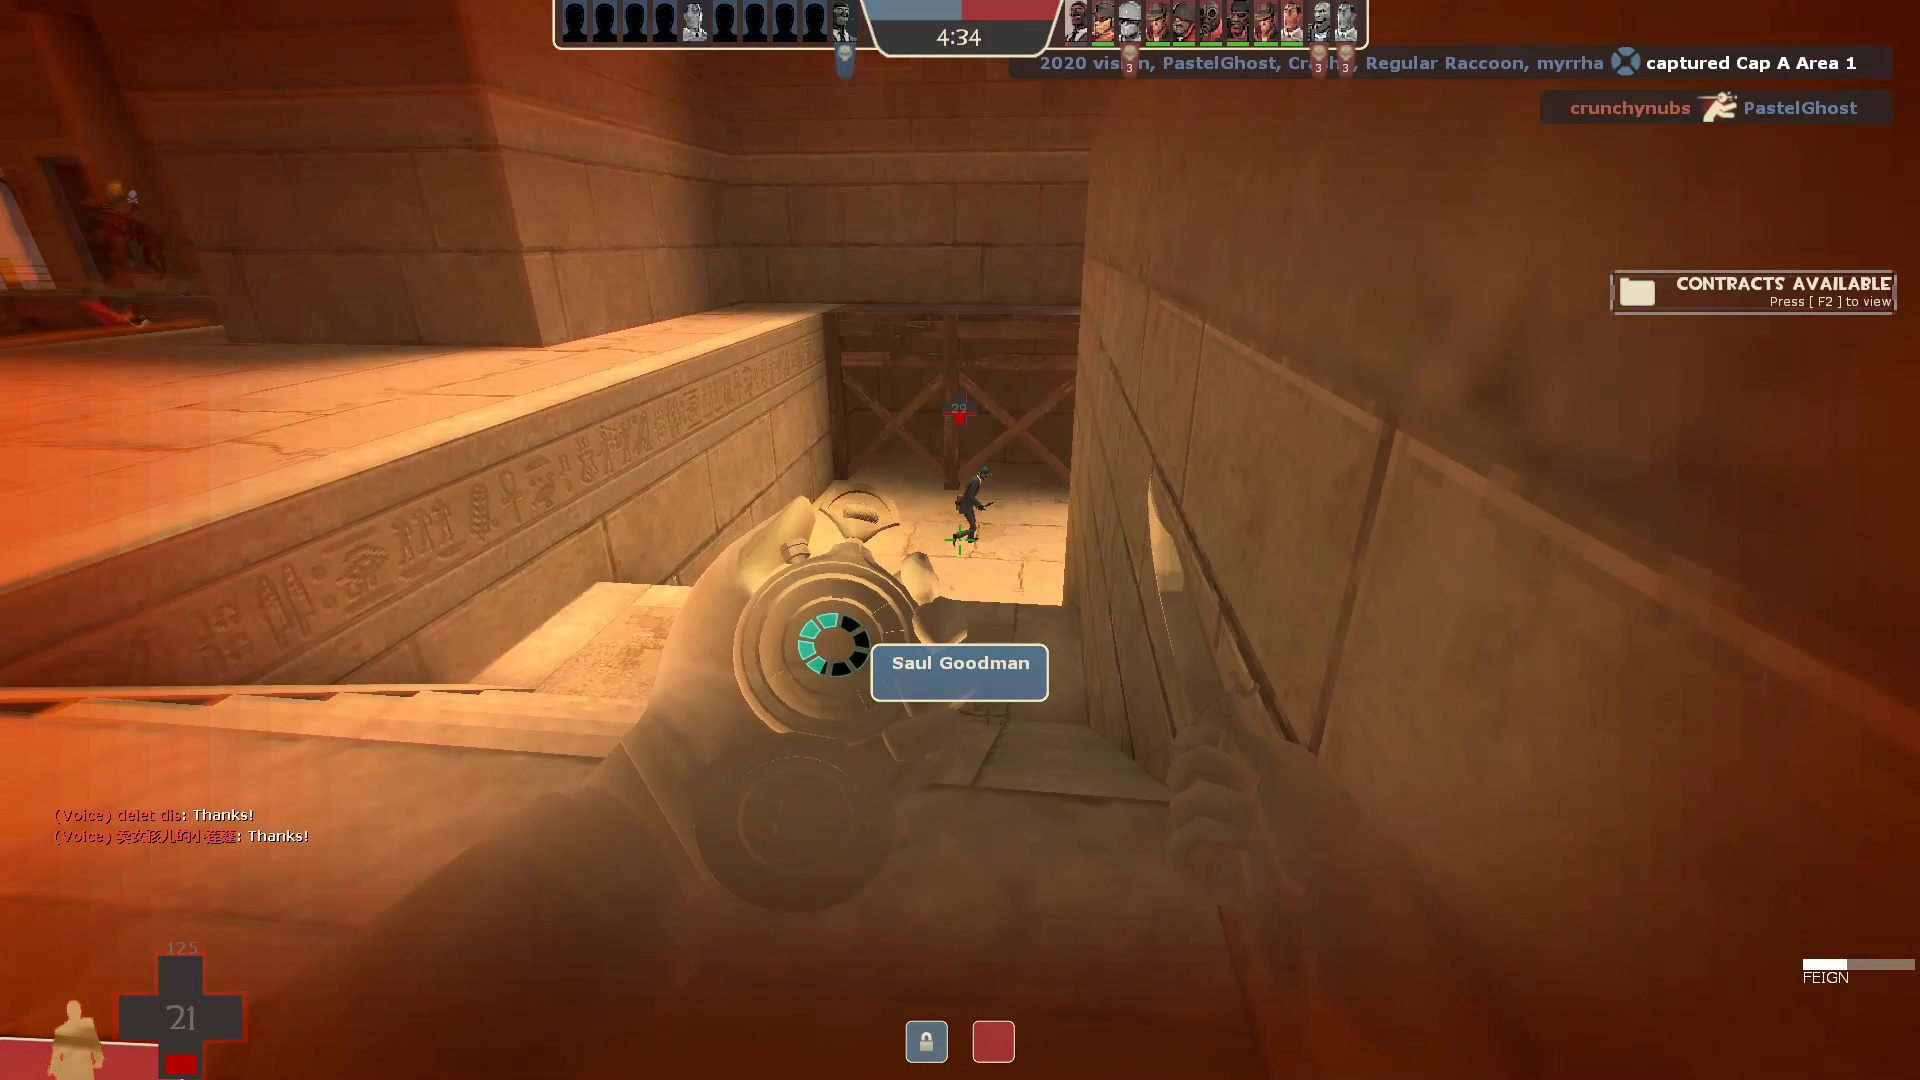blu_spy: (947, 458, 1001, 559)
